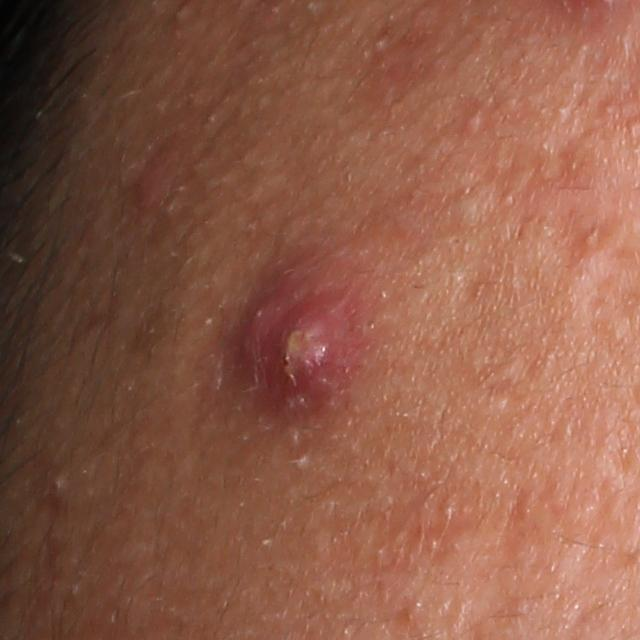comedo: (452, 187, 503, 231), (42, 467, 71, 507), (291, 449, 316, 476), (489, 388, 512, 413)
nodule: (218, 280, 361, 409)
